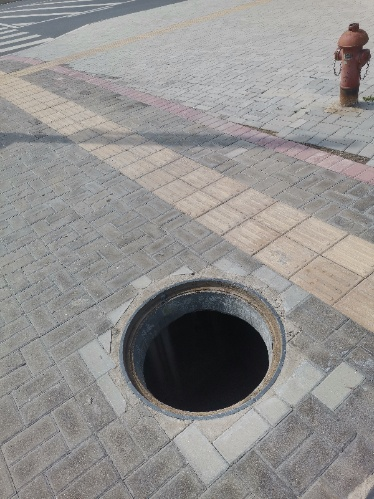lose: (121, 277, 287, 422)
